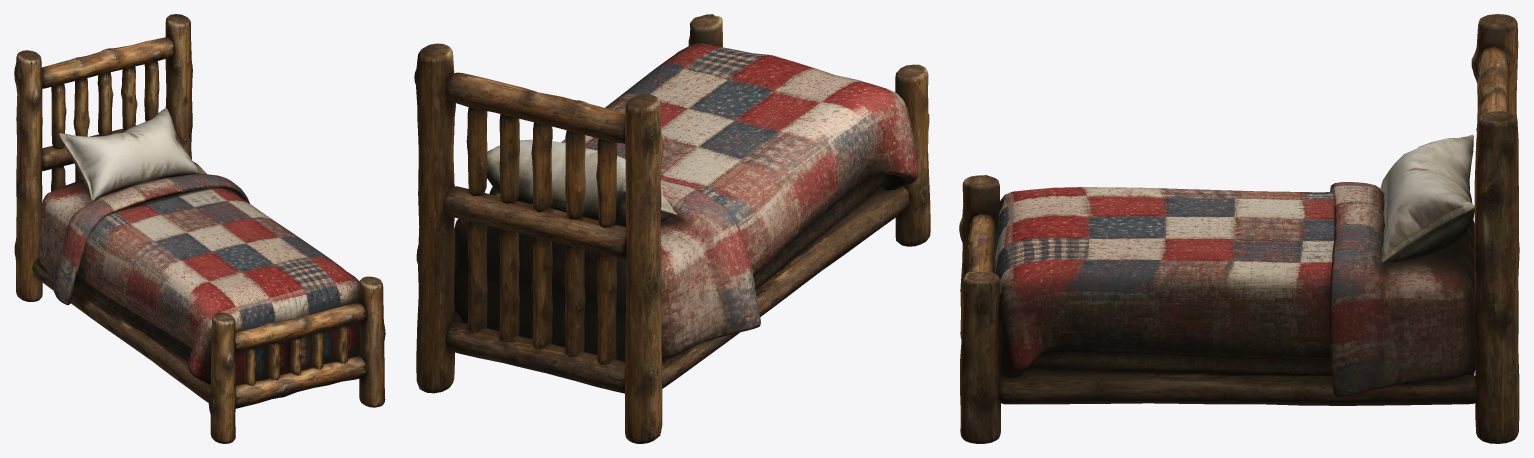
Rendered from bed.glb.
3 views of the same model, side by side, from view 1: azimuth 30°, elevation 25°; view 2: azimuth 150°, elevation 25°; view 3: azimuth 270°, elevation 25° (orthographic). The views are drawn at different scales.
Visible parts, largest first — view 1: tripo_node_6c912100-f1d3-40cb-b335-1a96bc2f035b; view 2: tripo_node_6c912100-f1d3-40cb-b335-1a96bc2f035b; view 3: tripo_node_6c912100-f1d3-40cb-b335-1a96bc2f035b.
Part boxes in pixels (x1,y1,x2,y2): tripo_node_6c912100-f1d3-40cb-b335-1a96bc2f035b: (14,14,385,443); tripo_node_6c912100-f1d3-40cb-b335-1a96bc2f035b: (414,14,930,443); tripo_node_6c912100-f1d3-40cb-b335-1a96bc2f035b: (959,14,1519,443).
Size of the model in its own units: 0.5587 by 0.6353 by 0.9995.
Materials: 1 (1 with a texture image).
